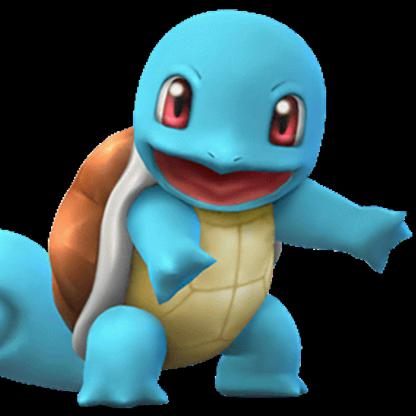Squirtle: (1, 11, 416, 416)
